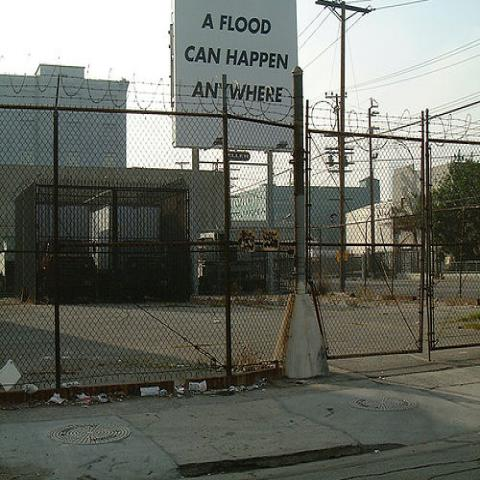truck: (41, 240, 98, 302), (116, 237, 172, 297)
